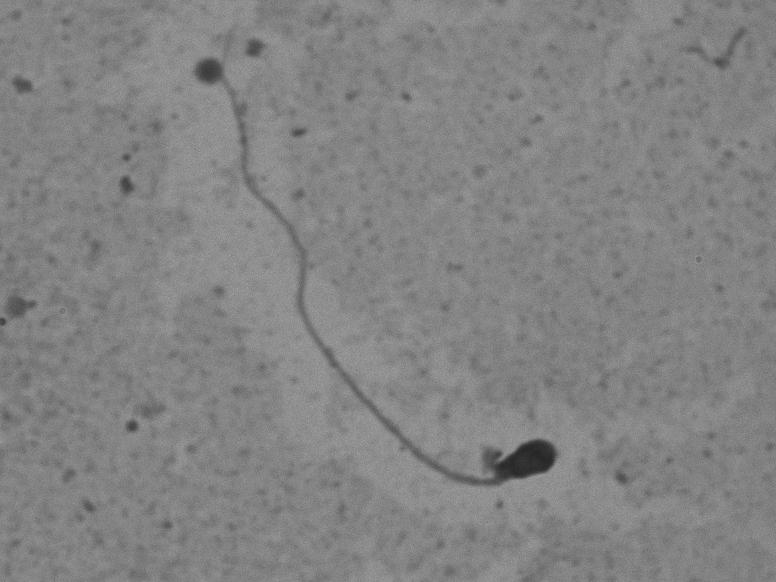Abnormal: (178, 99, 588, 522)
